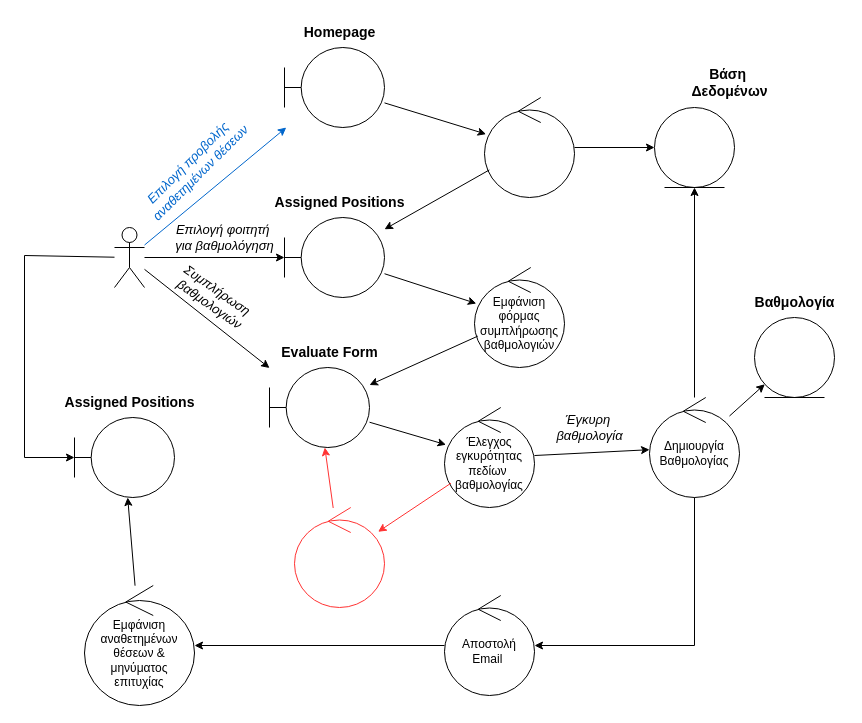
Some shapes in this 862 by 723 pixel diagram are drawn without their labels. Here are the shapes that lost their labels. From the top down, the box of each, then its label:
(484, 96, 574, 198): Ανάκτηση & εμφάνιση αναθετημένων θέσεων
(114, 226, 144, 288): Εταιρεία
(294, 506, 384, 608): Εμφάνιση μηνύματος λάθους
